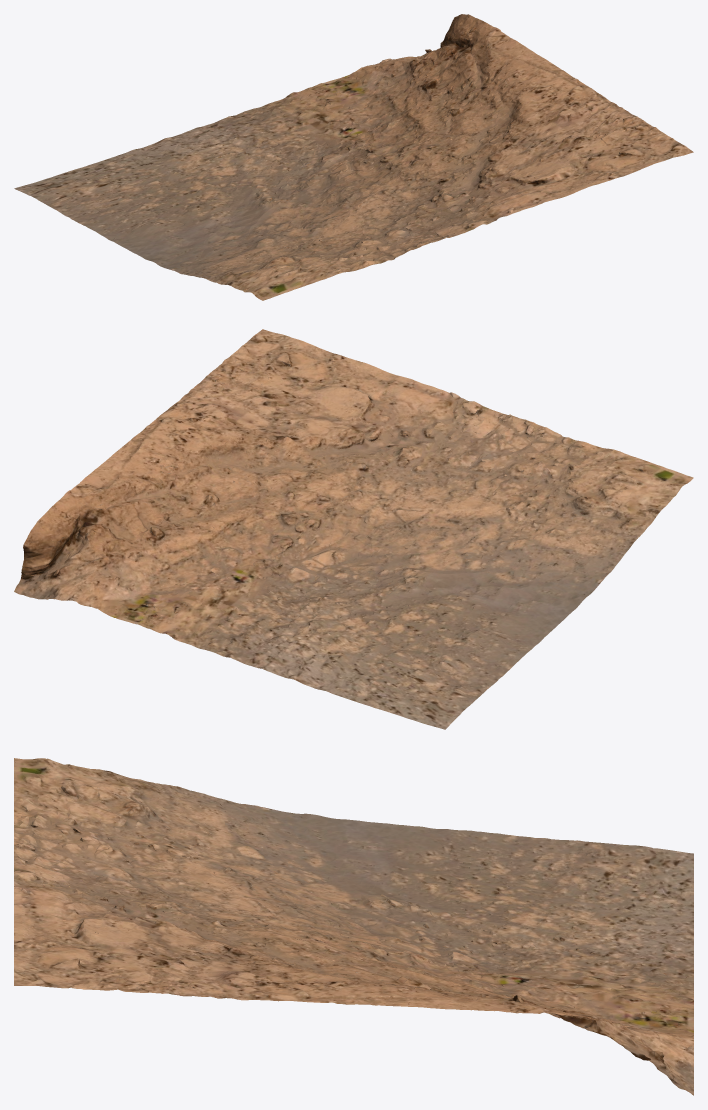
The picture shows the model from 3 angles, top to bottom: view 1: azimuth 30°, elevation 25°; view 2: azimuth 150°, elevation 25°; view 3: azimuth 270°, elevation 25°; orthographic projection. The views are drawn at different scales.
Bounding box in the file's own units: 33.42 × 8.41 × 33.42.
3 materials, 3 textured.
